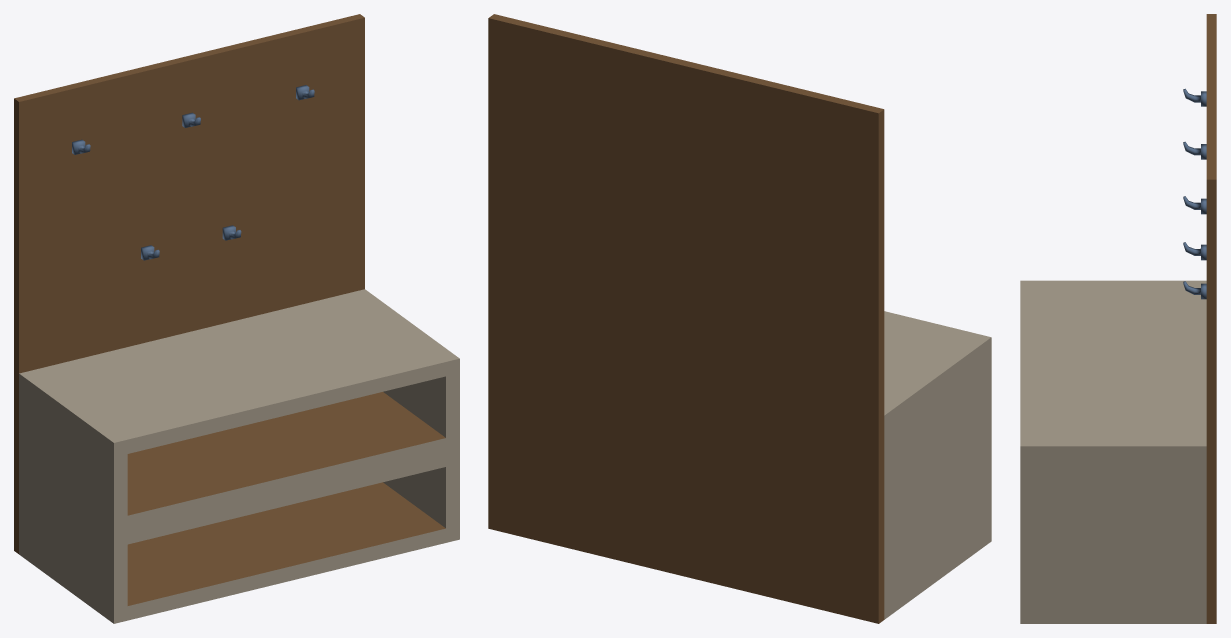
The model's file is Gaderobe.fbx.
3 views of the same model, side by side, from view 1: azimuth 30°, elevation 25°; view 2: azimuth 150°, elevation 25°; view 3: azimuth 270°, elevation 25° (orthographic). The views are drawn at different scales.
Parts seen in each view (by area): view 1: Cube.008; view 2: Cube.008; view 3: Cube.008.
Part boxes in pixels (bbox=[...]): Cube.008: bbox=[14, 14, 459, 623]; Cube.008: bbox=[488, 14, 991, 623]; Cube.008: bbox=[1020, 14, 1216, 623].
Size of the model in its own units: 200 by 250 by 100.
